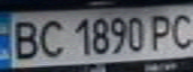0: (124, 14, 148, 53)
1: (69, 15, 93, 56)
8: (90, 14, 112, 56)
9: (109, 13, 130, 55)
B: (6, 17, 42, 62)
C: (33, 17, 66, 60), (166, 9, 193, 48)
P: (148, 11, 178, 51)
